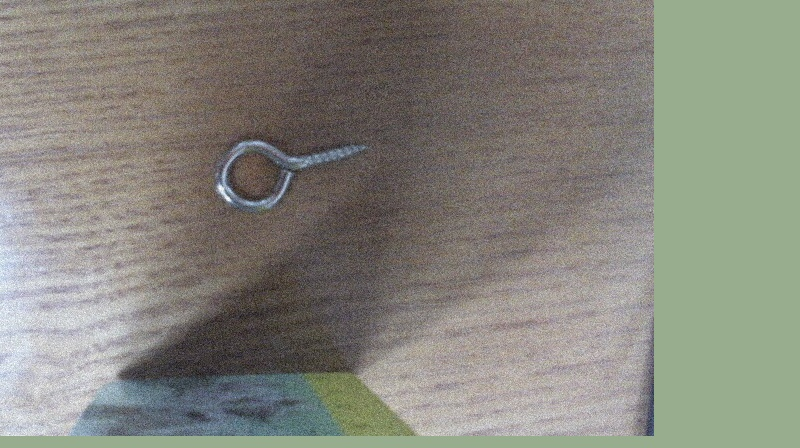O001: (208, 133, 368, 212)
